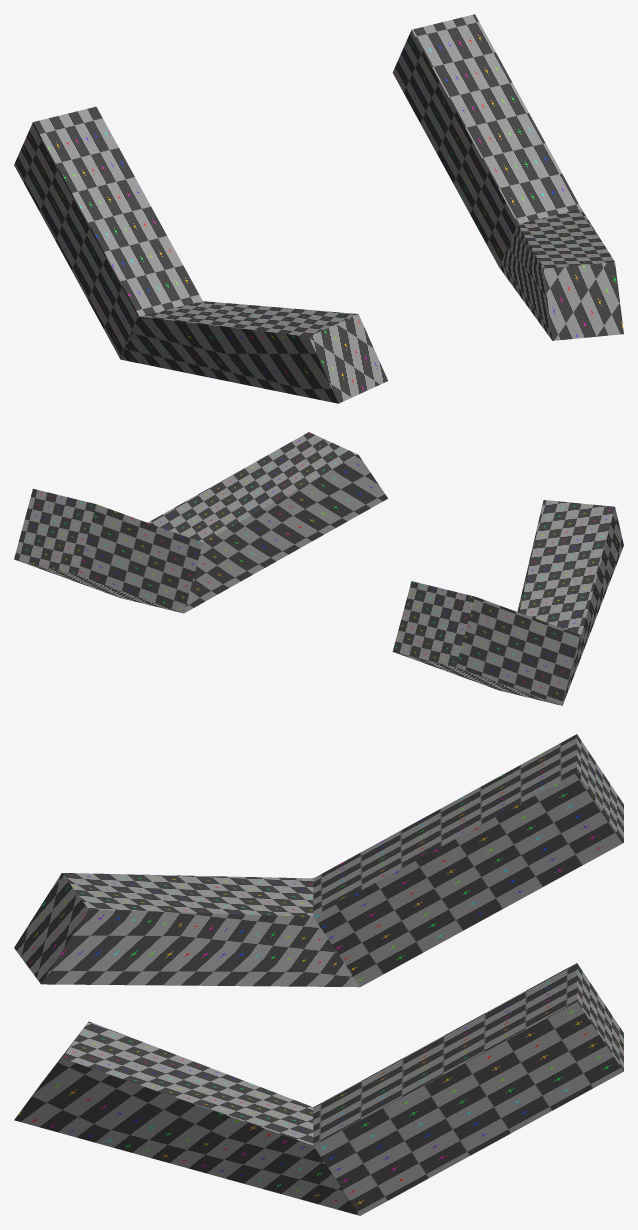
The model's file is arms_DEFAULT.dae.
3 views of the same model, one above another, from view 1: azimuth 30°, elevation 25°; view 2: azimuth 150°, elevation 25°; view 3: azimuth 270°, elevation 25° (orthographic). The views are drawn at different scales.
Parts seen in each view (by area): view 1: Cube, Cube_001; view 2: Cube_001, Cube; view 3: Cube, Cube_001.
Boxes of the visible parts, bbox=[...] form: Cube: bbox=[14, 106, 387, 403]; Cube_001: bbox=[392, 14, 623, 340]; Cube_001: bbox=[14, 432, 387, 613]; Cube: bbox=[392, 500, 623, 705]; Cube: bbox=[14, 734, 623, 987]; Cube_001: bbox=[14, 963, 623, 1215].
Size of the model in its own units: 1.08 by 1.04 by 0.4057.
2 materials, 2 textured.
